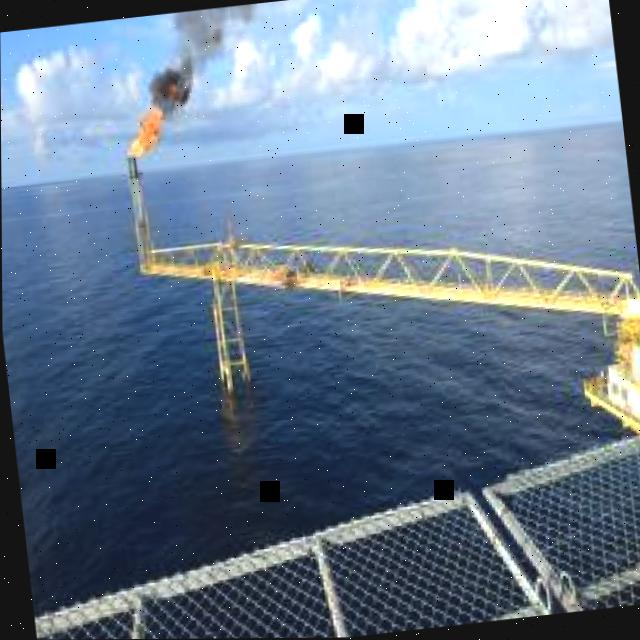fire: (128, 107, 163, 157), (169, 85, 176, 99)
smoke: (148, 4, 255, 121)
